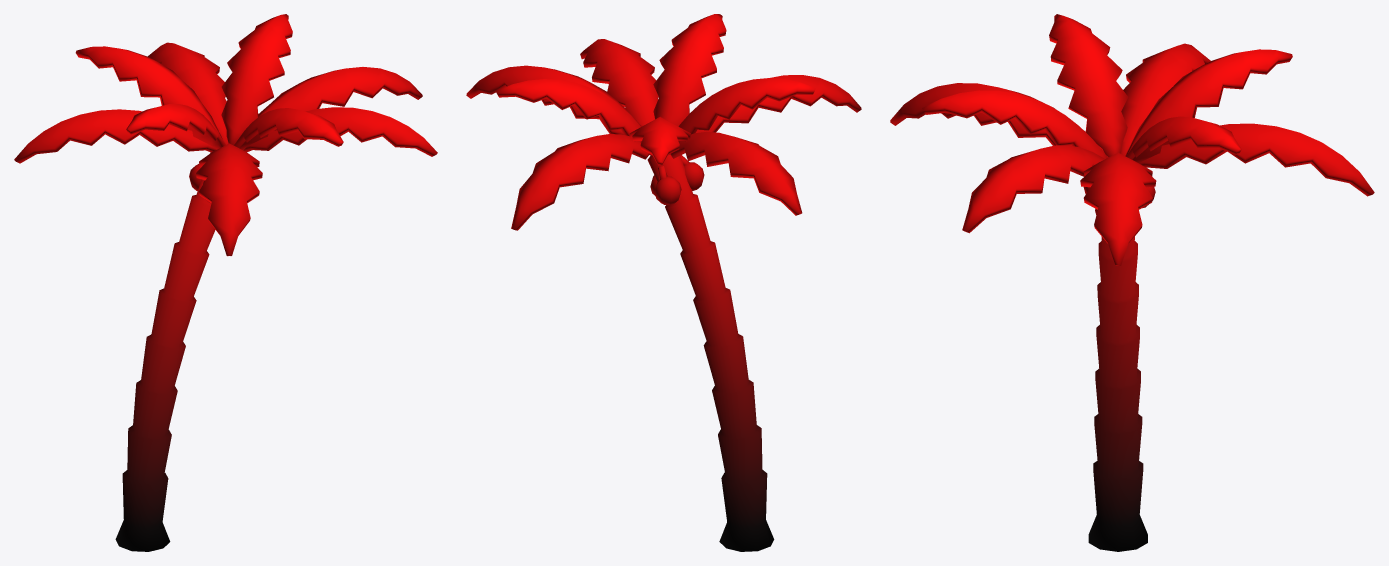
Rendered from SM_Island_PalmTree_Tall.fbx.
3 renders of one model, left to right at view 1: azimuth 30°, elevation 25°; view 2: azimuth 150°, elevation 25°; view 3: azimuth 270°, elevation 25°, orthographic. The views are drawn at different scales.
Visible parts, largest first — view 1: SM_Island_PalmTree_Tall_Outline; view 2: SM_Island_PalmTree_Tall_Outline; view 3: SM_Island_PalmTree_Tall_Outline.
Boxes of the visible parts, x1,y1,x2,y2 form: SM_Island_PalmTree_Tall_Outline: (14,14,437,551); SM_Island_PalmTree_Tall_Outline: (466,14,861,551); SM_Island_PalmTree_Tall_Outline: (890,14,1374,551).
Bounding box in the file's own units: 5.77 × 6.67 × 5.75.
